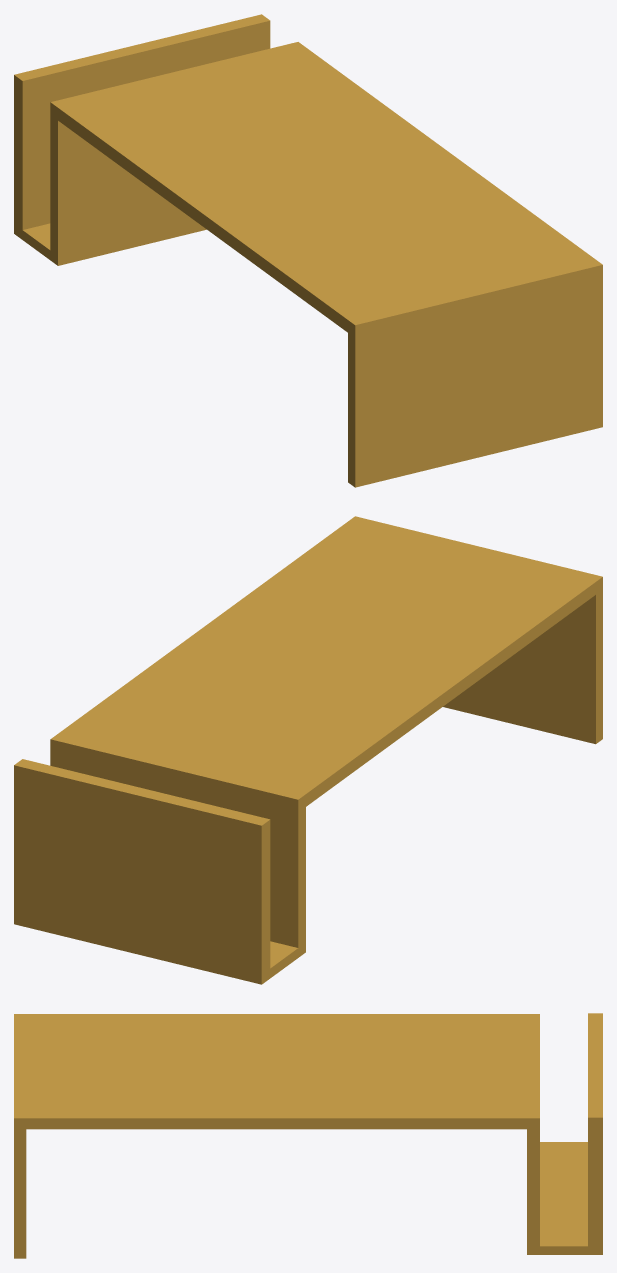
File: table.fbx
3 views of the same model, one above another, from view 1: azimuth 30°, elevation 25°; view 2: azimuth 150°, elevation 25°; view 3: azimuth 270°, elevation 25° (orthographic). The views are drawn at different scales.
Parts seen in each view (by area): view 1: Grid; view 2: Grid; view 3: Grid.
Part boxes in pixels (x1,y1,x2,y2): Grid: (14, 14, 602, 487); Grid: (14, 516, 602, 984); Grid: (14, 1013, 602, 1258).
Bounding box in the file's own units: 89.15 × 56.08 × 213.
